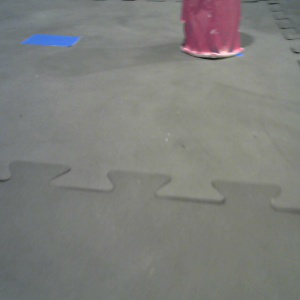Right: (178, 1, 246, 56)
